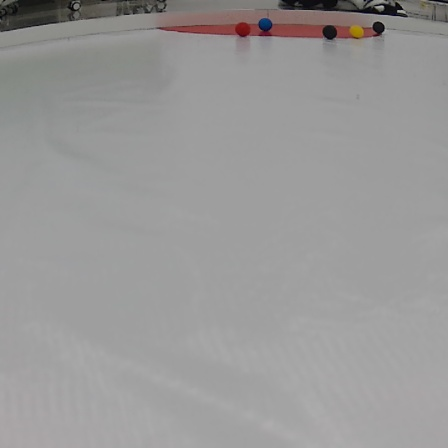black: (321, 25, 341, 39), (373, 20, 385, 32)
blue: (258, 17, 276, 34)
red: (234, 22, 252, 36)
red_base: (155, 19, 391, 39)
yellow: (348, 25, 366, 36)
